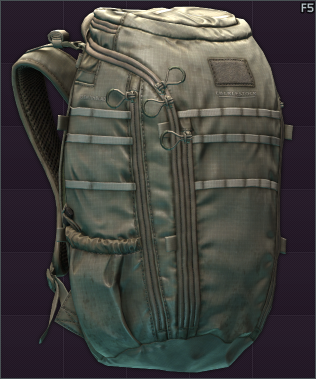Eberlestock F5 Switchblade backpack Dry Earth: (0, 0, 316, 379)
